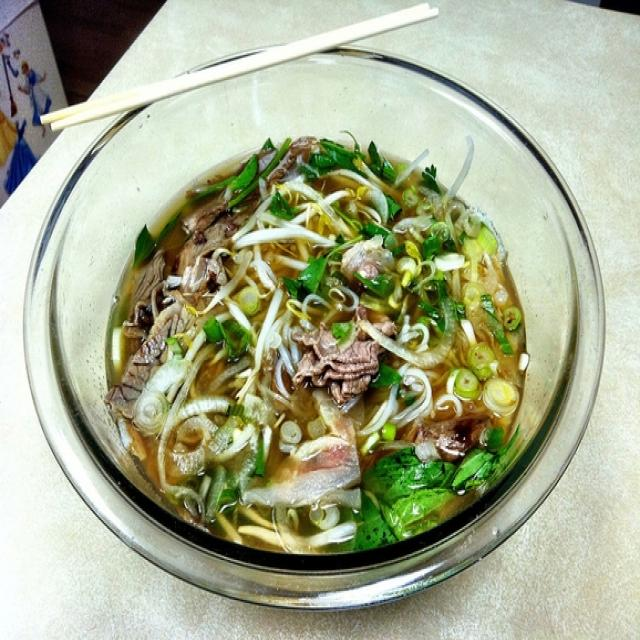面条主食: (35, 41, 606, 581)
